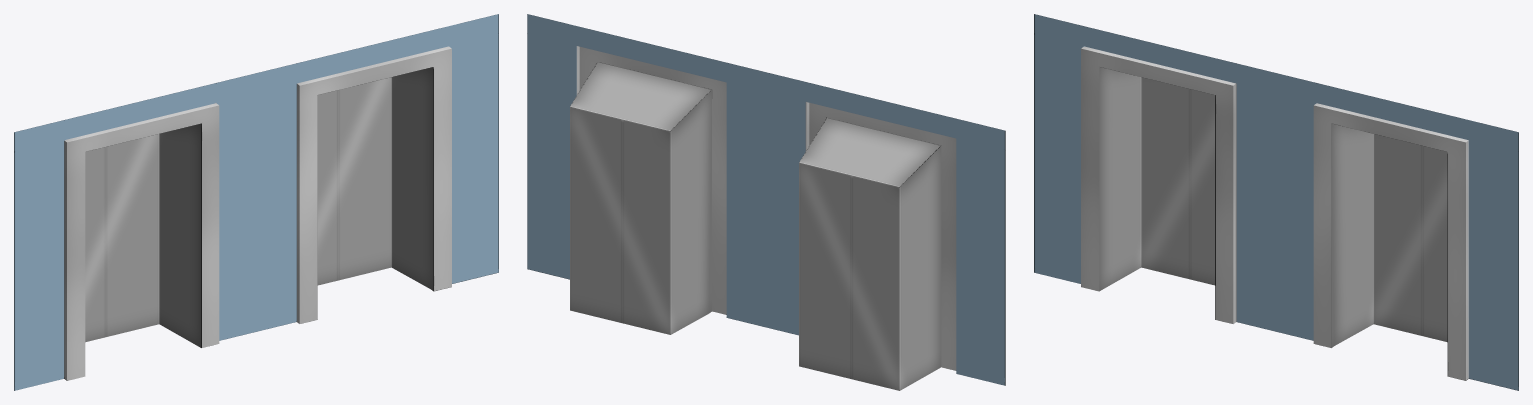
The model's file is Elevator_Wall_Model.fbx.
The picture shows the model from 3 angles, left to right: view 1: azimuth 30°, elevation 25°; view 2: azimuth 150°, elevation 25°; view 3: azimuth 330°, elevation 25°; orthographic projection.
Parts seen in each view (by area): view 1: Plane001; view 2: Plane001; view 3: Plane001.
Part boxes in pixels (<box>): Plane001: <box>14,14,498,390</box>; Plane001: <box>527,14,1005,390</box>; Plane001: <box>1034,14,1518,390</box>.
Bounding box in the file's own units: 440 × 224 × 55.16.
Materials: 1 (1 with a texture image).
